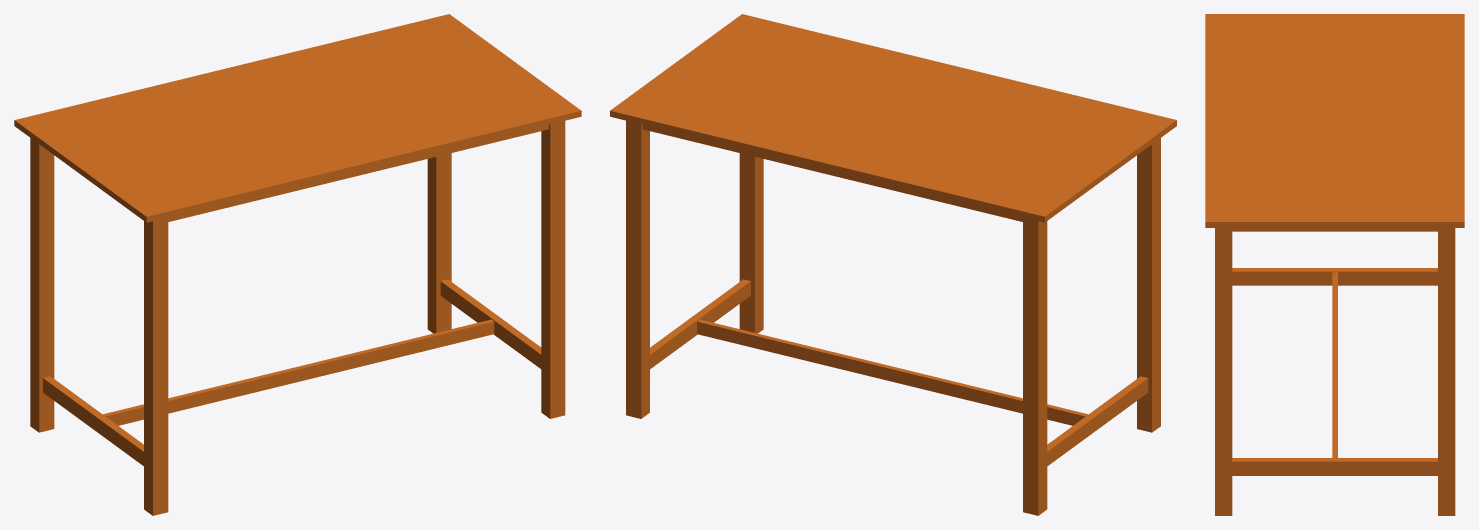
File: Student's_Desk.fbx
The picture shows the model from 3 angles, left to right: view 1: azimuth 30°, elevation 25°; view 2: azimuth 150°, elevation 25°; view 3: azimuth 270°, elevation 25°; orthographic projection. The views are drawn at different scales.
Parts seen in each view (by area): view 1: Table_lowpoly; view 2: Table_lowpoly; view 3: Table_lowpoly.
Part boxes in pixels (x1,y1,x2,y2): Table_lowpoly: [14, 14, 581, 515]; Table_lowpoly: [610, 14, 1176, 515]; Table_lowpoly: [1205, 14, 1464, 515].
Bounding box in the file's own units: 114 × 76.5 × 60.
